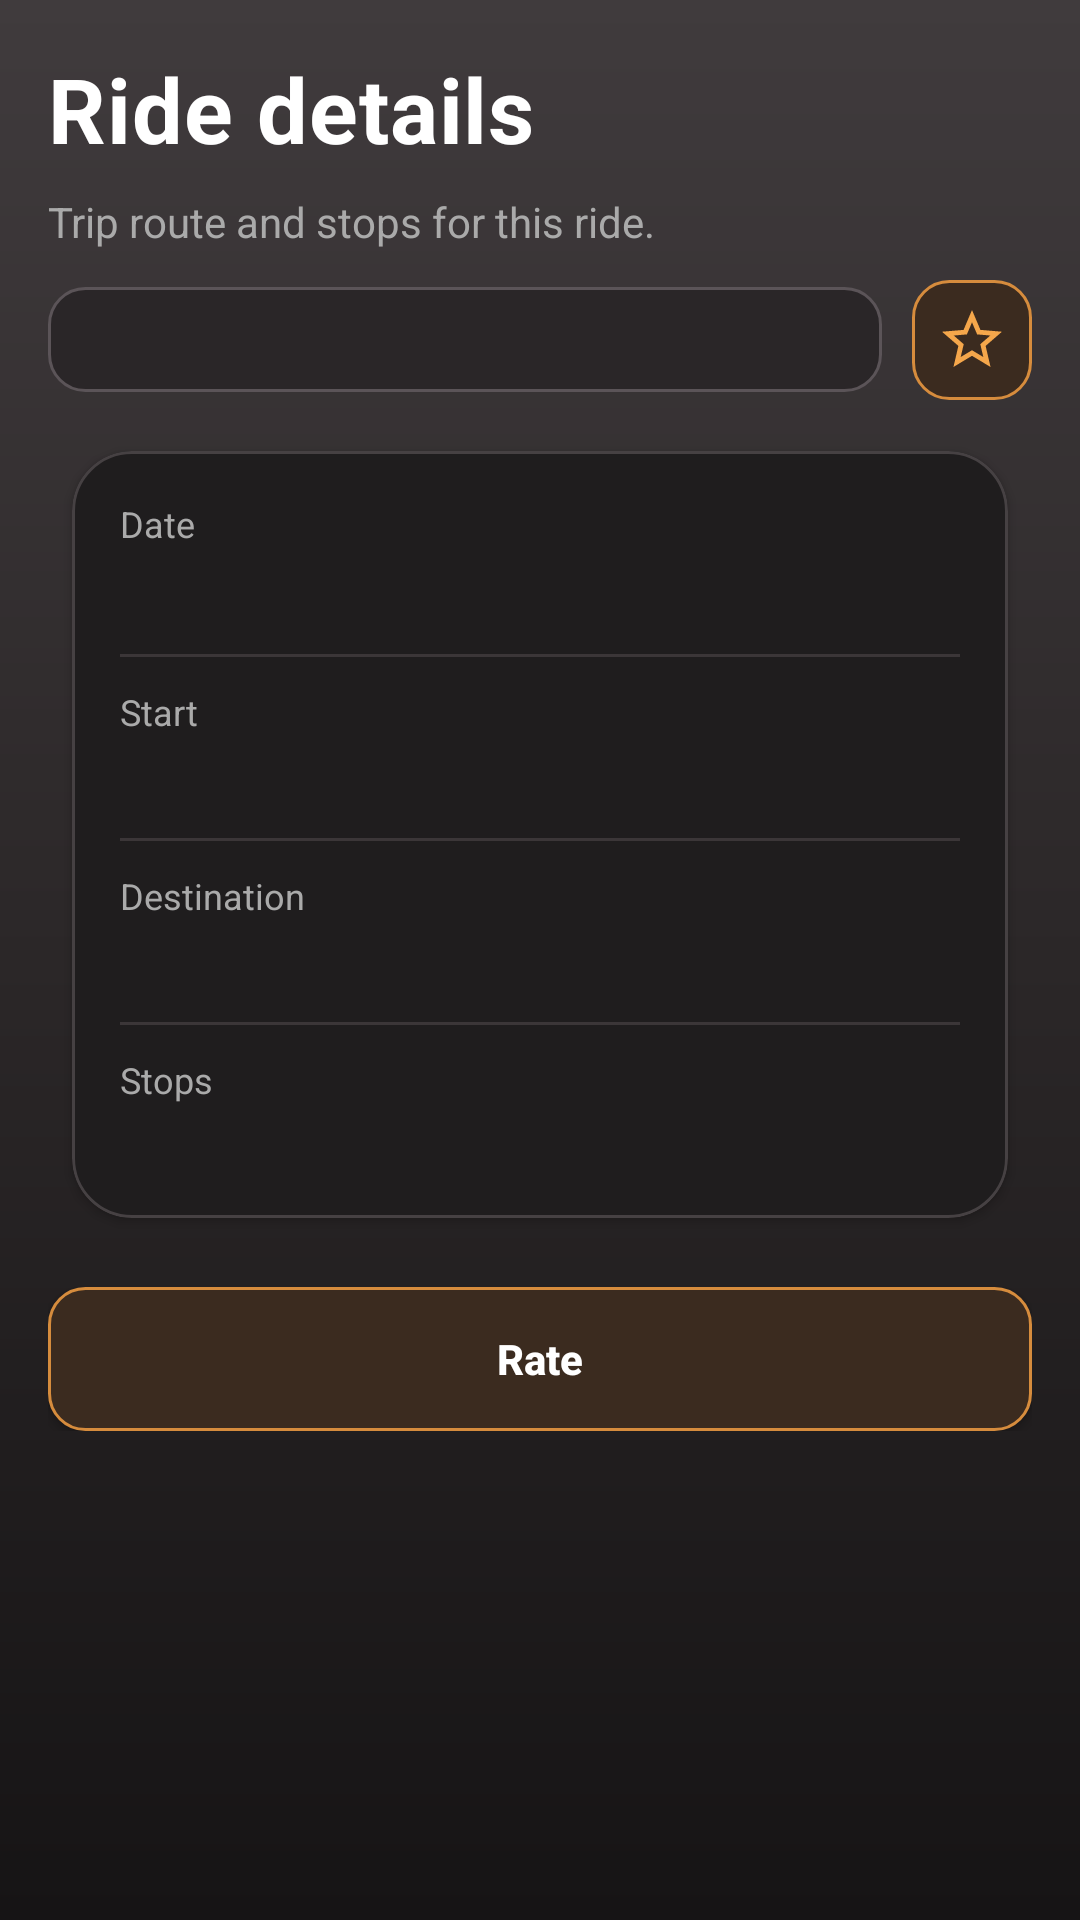

Icon bounding boxes for this 1080px×1920px phone screenshot, format (x1, y1, x2, y2):
Add to favorites: (912, 280, 1032, 400)
